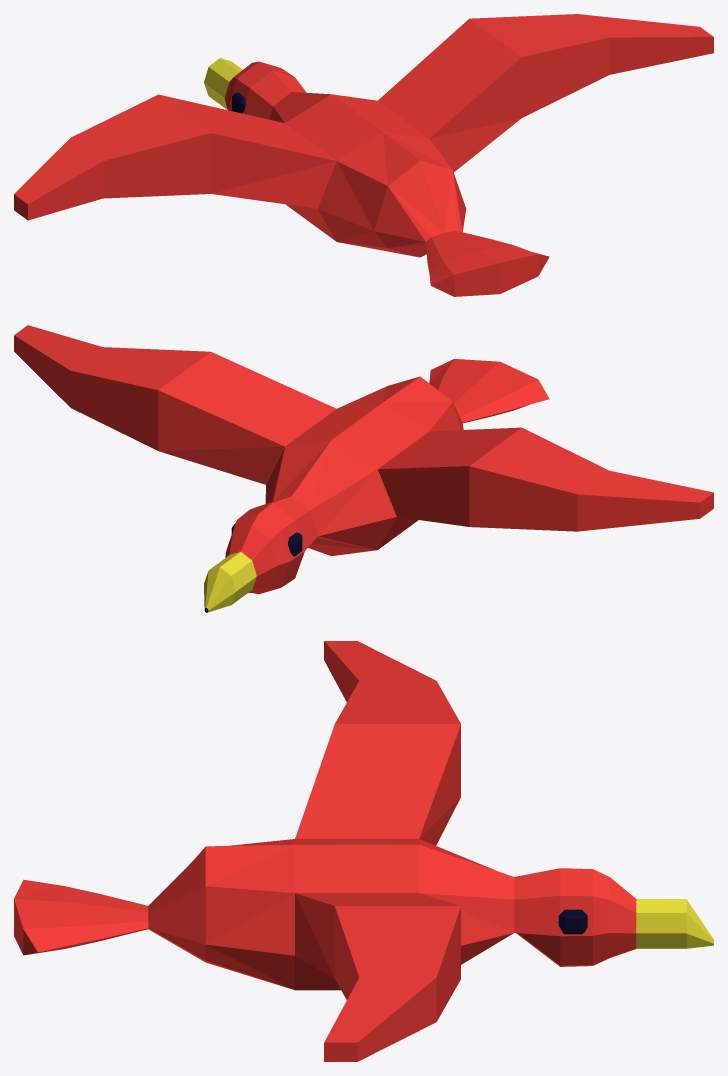
File: bard.obj
3 views of the same model, one above another, from view 1: azimuth 30°, elevation 25°; view 2: azimuth 150°, elevation 25°; view 3: azimuth 270°, elevation 25° (orthographic). The views are drawn at different scales.
Parts seen in each view (by area): view 1: Bard; view 2: Bard; view 3: Bard.
Part boxes in pixels (left/top/right/bottom): Bard: left=14, top=14, right=713, bottom=296; Bard: left=14, top=325, right=713, bottom=612; Bard: left=14, top=641, right=713, bottom=1061.
Size of the model in its own units: 6.05 by 1.19 by 4.46.
1 material, 1 textured.
